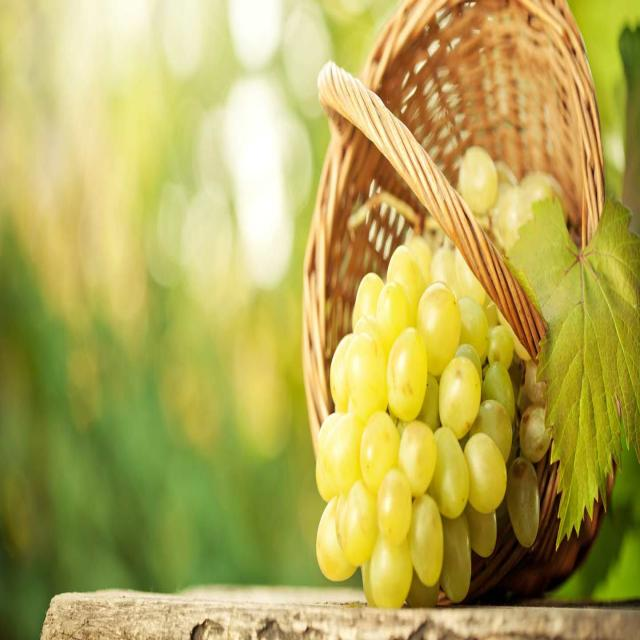grape: (313, 140, 554, 616)
